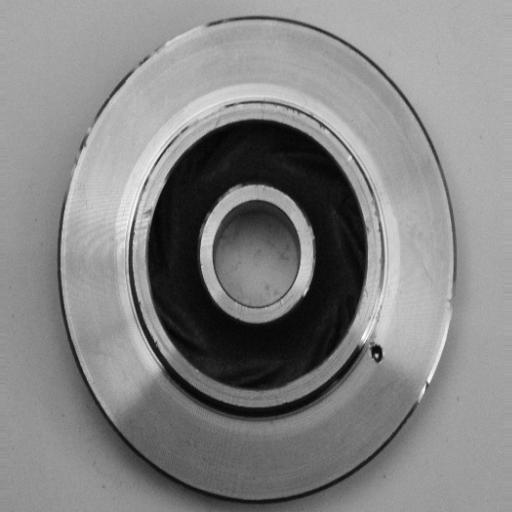pit: (363, 331, 393, 372)
scratch: (165, 95, 239, 137)
unpolished_casting: (55, 12, 461, 501)
